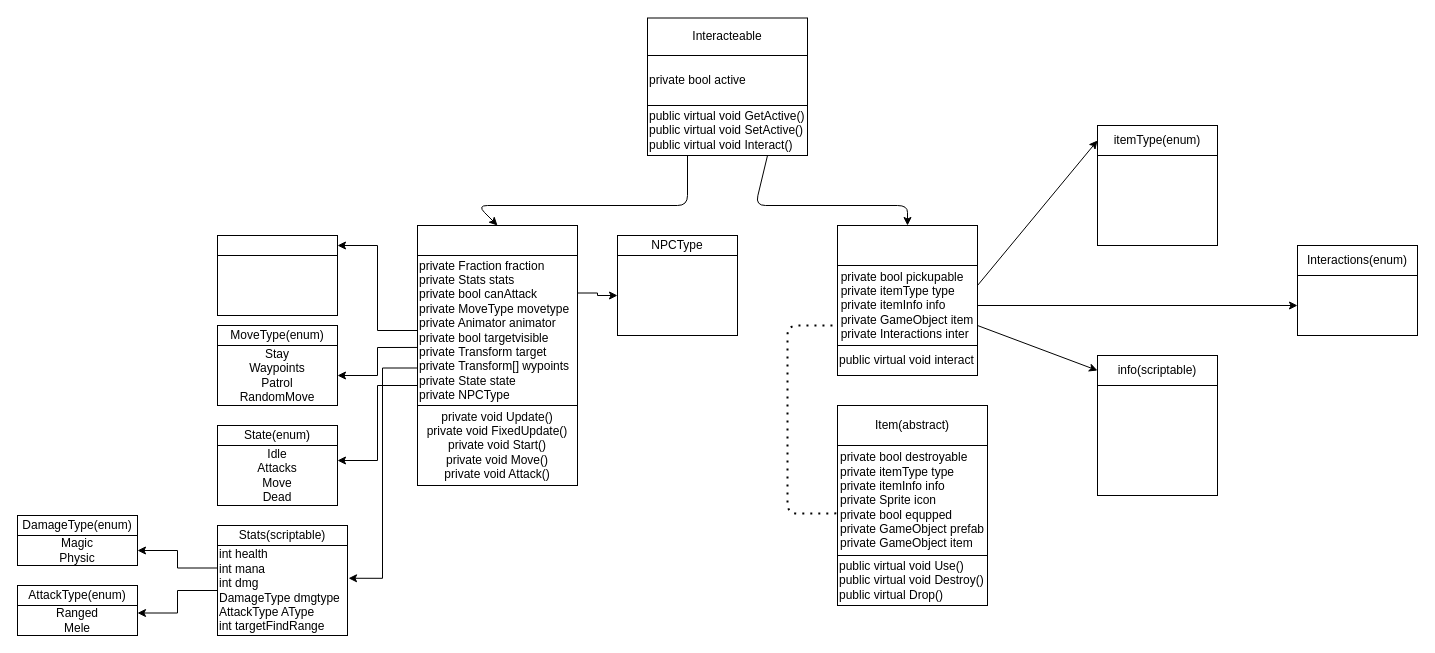
Some shapes in this 1435 by 653 pixel diagram are drawn without their labels. The box of each missing label's shape, as (x1, y1, x2, y2) in pixels:
bool isTradeable int id int addHP int addArmor int damage int cost float weight: (1096, 384, 1218, 496)
Fraction(enum): (216, 234, 338, 256)
Friendly Enemy Neutral ...: (216, 254, 338, 316)
GroundItem(abstract): (836, 224, 978, 266)
NPC: (416, 224, 578, 256)
Pickup Inspect: (1296, 274, 1418, 336)
TraderNPC QuestNPC EnemyNPC GuardianNPC ...: (616, 254, 738, 336)
Weapon Armor Consumable Trash Quest Special: (1096, 154, 1218, 246)
